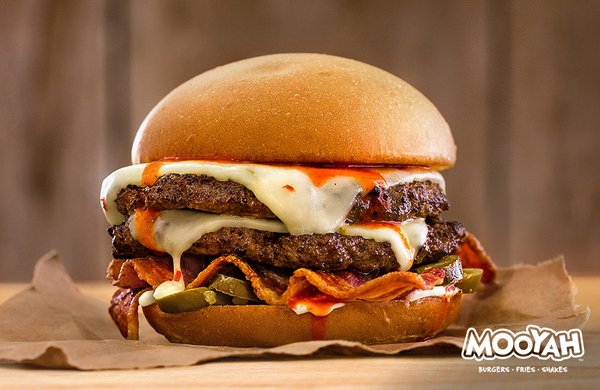soup: (102, 53, 501, 350)
